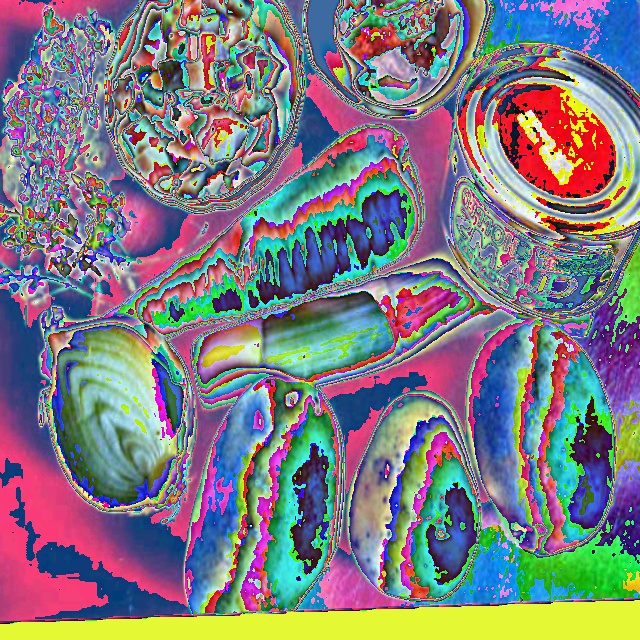background: (0, 2, 618, 614), (112, 0, 291, 202), (125, 0, 461, 107)
